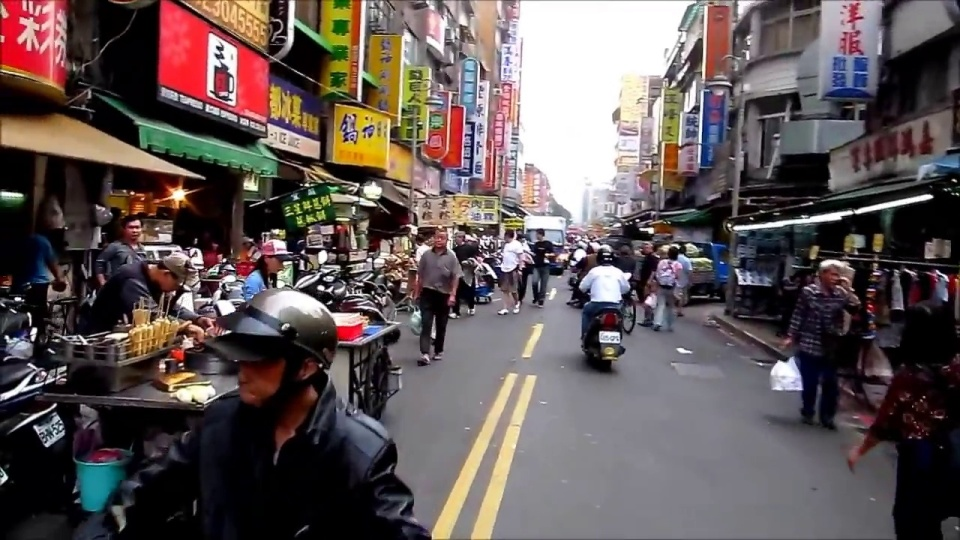person_head: (222, 293, 337, 410), (899, 295, 959, 366), (138, 244, 197, 294), (254, 237, 289, 276), (814, 259, 845, 288), (116, 213, 144, 243), (428, 229, 450, 254), (594, 246, 615, 270), (500, 227, 517, 250), (533, 224, 547, 244), (666, 243, 680, 263), (584, 240, 601, 256), (677, 241, 691, 258), (644, 243, 663, 255), (474, 249, 486, 264), (516, 234, 528, 245), (576, 240, 586, 251)
person_vbox: (134, 282, 439, 540), (852, 294, 960, 455), (780, 258, 867, 436), (91, 246, 197, 354), (406, 221, 461, 369), (572, 246, 640, 365), (648, 238, 692, 336), (486, 215, 526, 321), (448, 228, 490, 325), (96, 209, 150, 279), (519, 214, 558, 310), (239, 234, 292, 302), (568, 240, 610, 307), (639, 238, 662, 330), (672, 240, 697, 318), (512, 228, 528, 318), (573, 241, 588, 263)
